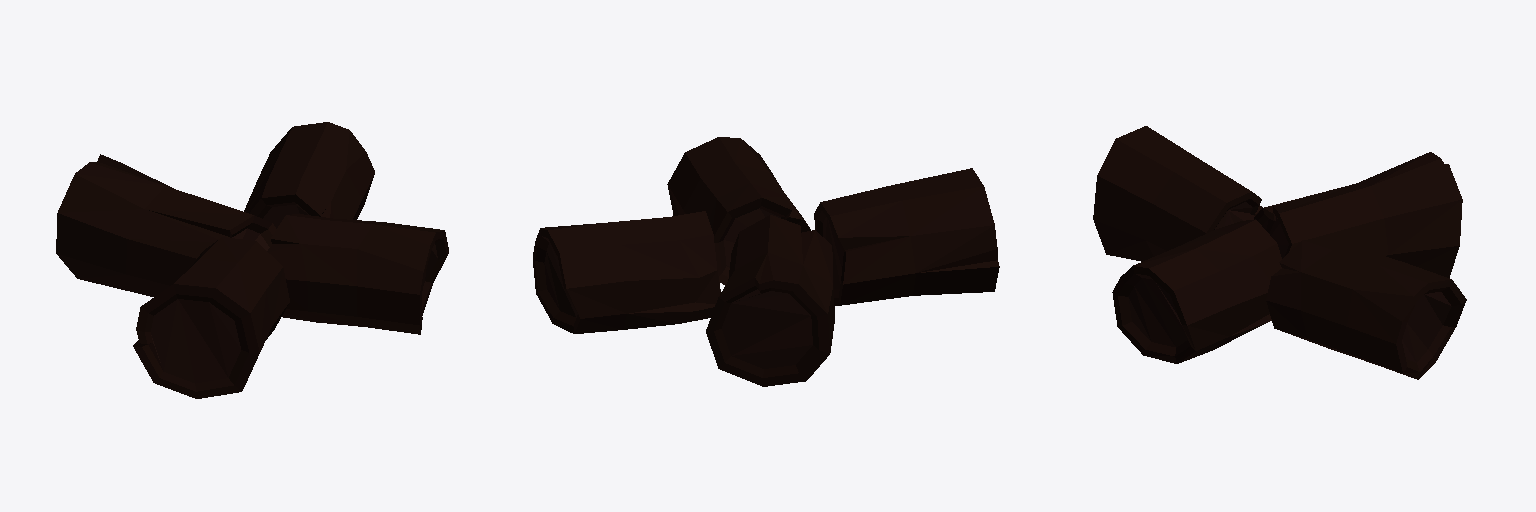
Rendered from Bonfire.obj.
3 views of the same model, side by side, from view 1: azimuth 30°, elevation 25°; view 2: azimuth 150°, elevation 25°; view 3: azimuth 270°, elevation 25° (orthographic).
Visible parts, largest first — view 1: Bonfire_Cylinder.002; view 2: Bonfire_Cylinder.002; view 3: Bonfire_Cylinder.002.
Part boxes in pixels (left/top/right/bottom): Bonfire_Cylinder.002: left=56, top=122, right=448, bottom=398; Bonfire_Cylinder.002: left=533, top=137, right=999, bottom=386; Bonfire_Cylinder.002: left=1093, top=126, right=1466, bottom=379.
Bounding box in the file's own units: 2.18 × 0.6757 × 1.98.